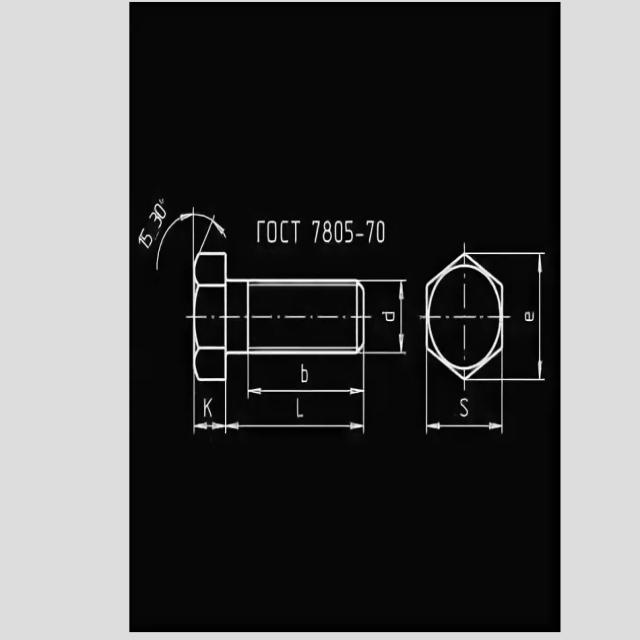marking_line: (228, 422, 361, 433), (533, 259, 545, 380), (250, 388, 365, 396), (427, 423, 503, 434), (396, 284, 407, 351), (193, 418, 226, 432)
numeric: (309, 218, 355, 249), (366, 219, 388, 244), (134, 225, 152, 252), (147, 203, 165, 224)
